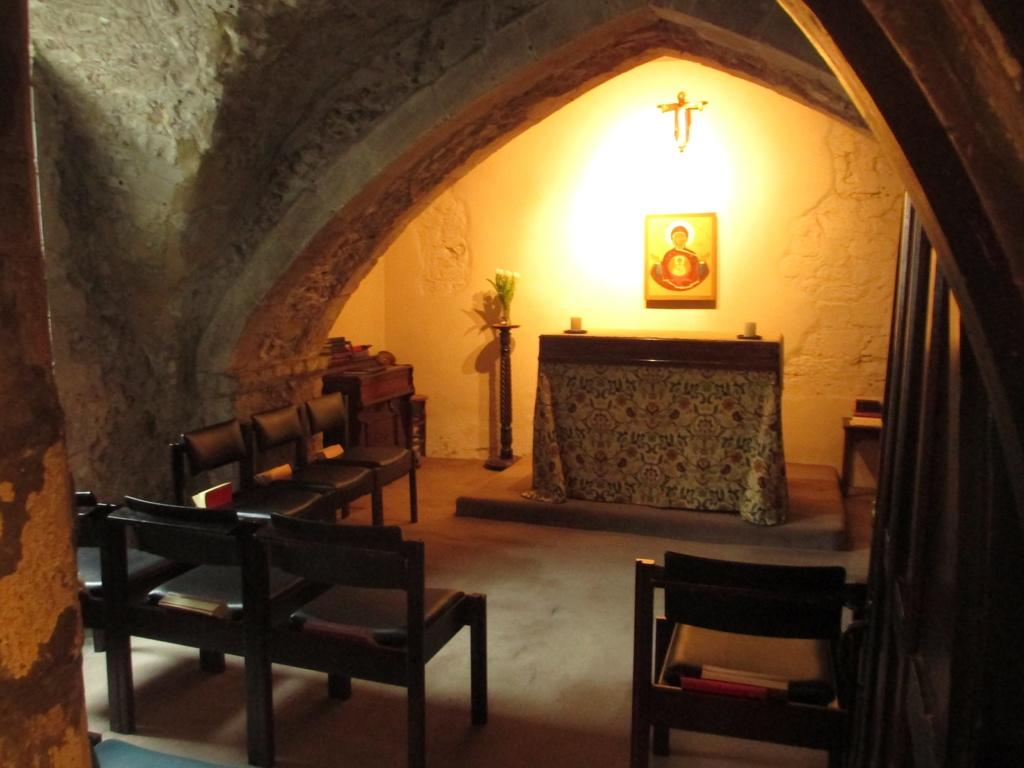Chair: (100, 495, 344, 767), (255, 509, 488, 767), (646, 502, 898, 732), (70, 490, 211, 735), (166, 417, 338, 525), (244, 402, 382, 529), (300, 393, 422, 525)
